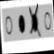correct: (18, 12, 26, 36)
not correct: (29, 2, 41, 40)
